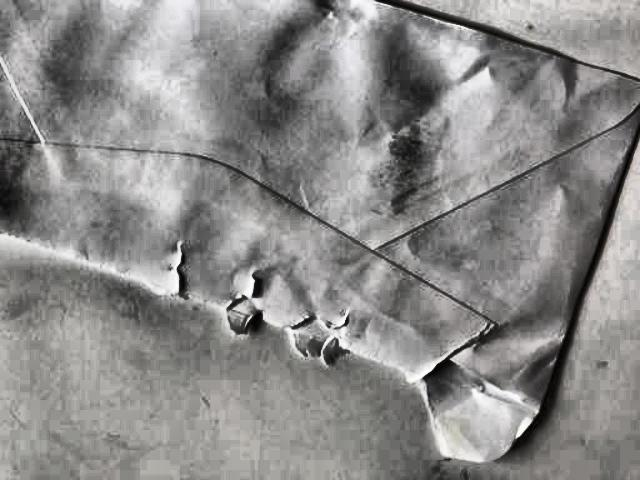Paper: (0, 0, 640, 459)
